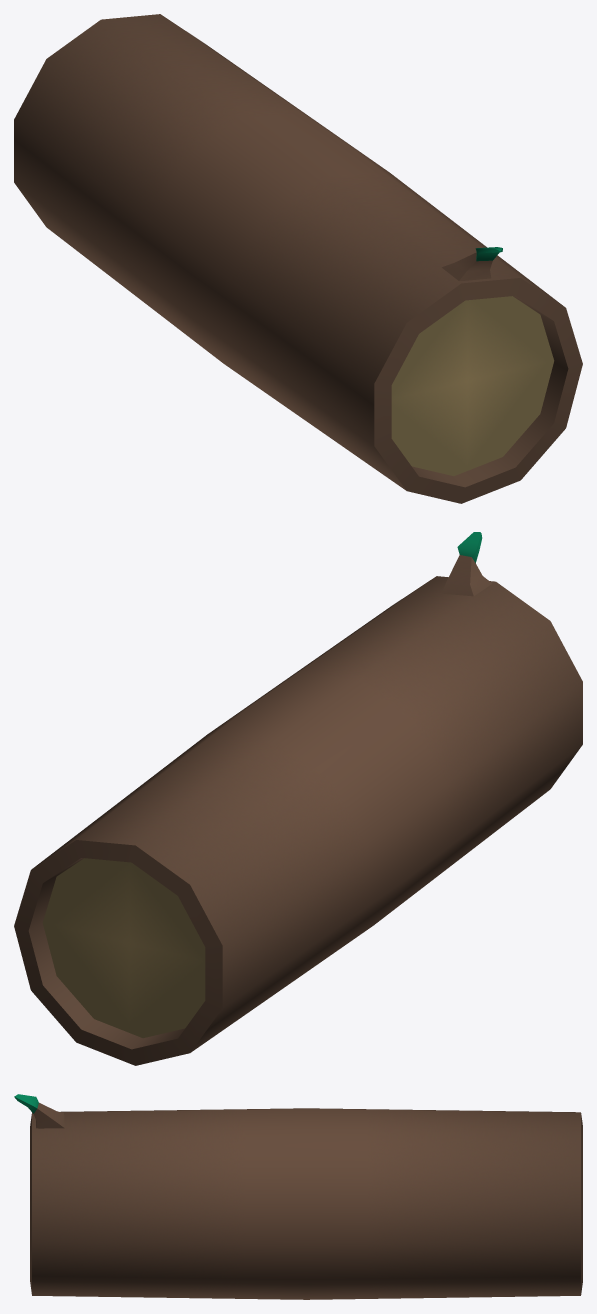
The model's file is SM_FallingLog.fbx.
3 renders of one model, top to bottom at view 1: azimuth 30°, elevation 25°; view 2: azimuth 150°, elevation 25°; view 3: azimuth 270°, elevation 25°, orthographic. The views are drawn at different scales.
Parts seen in each view (by area): view 1: FallingLog; view 2: FallingLog; view 3: FallingLog.
Boxes of the visible parts, bbox=[...] form: FallingLog: bbox=[14, 14, 582, 503]; FallingLog: bbox=[14, 532, 582, 1065]; FallingLog: bbox=[14, 1094, 582, 1299].
Size of the model in its own units: 5.01 by 5.74 by 14.89.
Materials: 1 (1 with a texture image).
